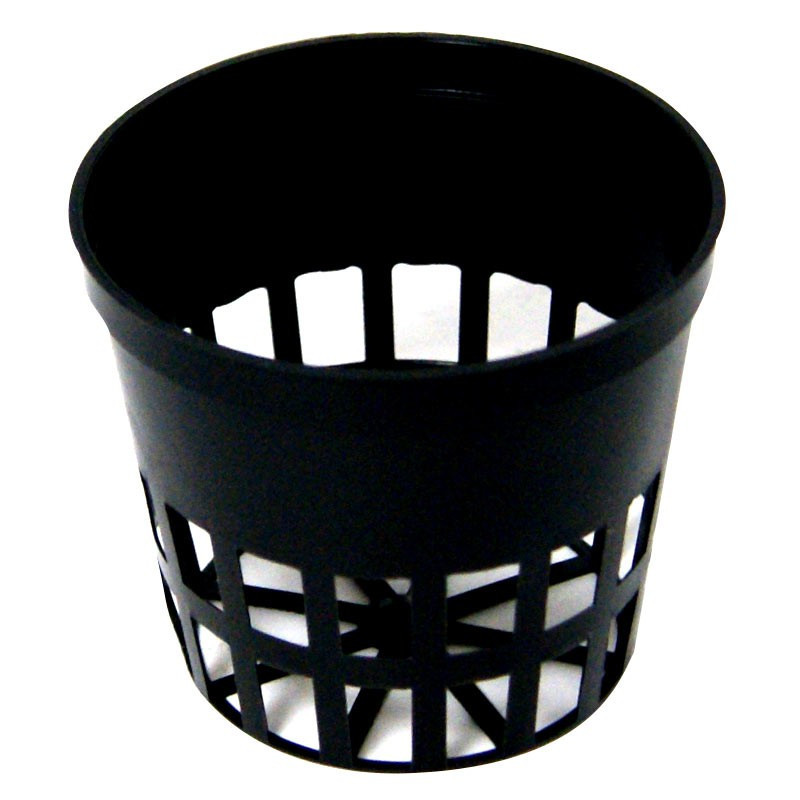basket: (48, 20, 752, 774)
